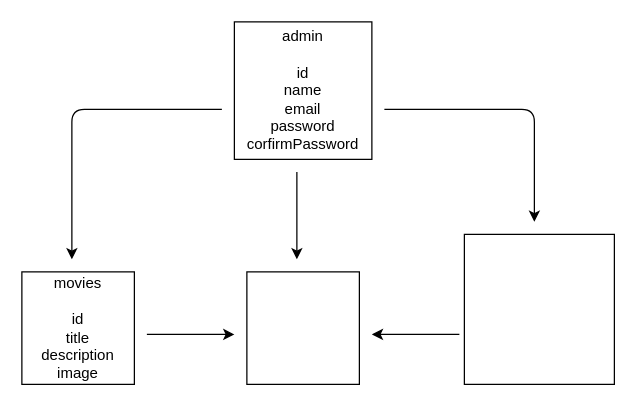
The diagram is 636 pixels wide and 406 high, and some of its shapes have lost their labels. The shapes that lost their labels are listed below. From the top down, each one's centre as x and y in pixels, then its label:
At point 302,327: "netflix id title description image".
At point 538,308: "user id name cpf email password confirmPassword".
